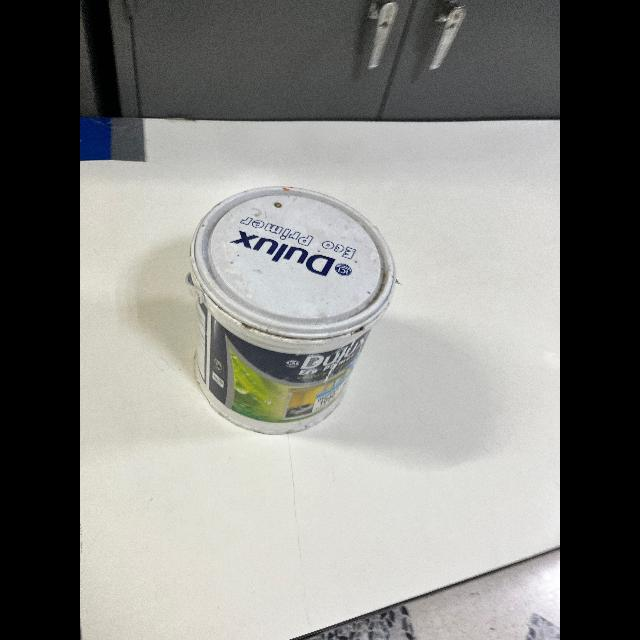paint_bucket: (176, 167, 400, 437)
